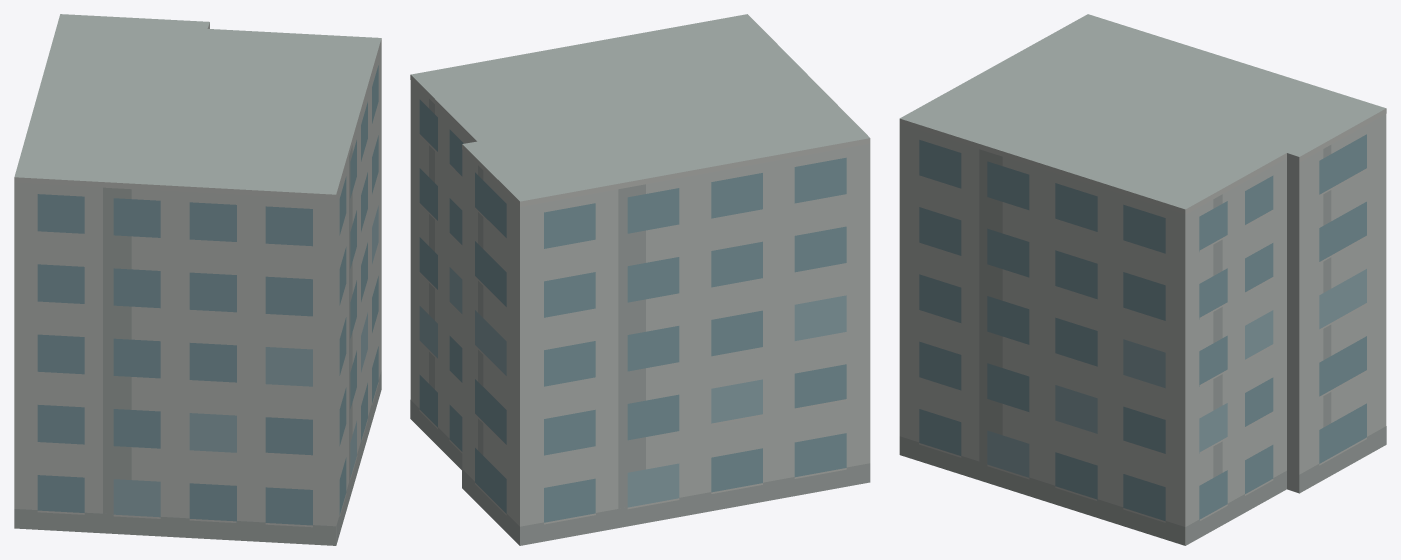
Rendered from survey-upis-32761592.glb.
3 renders of one model, left to right at view 1: azimuth 30°, elevation 25°; view 2: azimuth 150°, elevation 25°; view 3: azimuth 270°, elevation 25°, orthographic. The views are drawn at different scales.
Visible parts, largest first — view 1: survey-upis-32761592.tmp; view 2: survey-upis-32761592.tmp; view 3: survey-upis-32761592.tmp.
Part boxes in pixels (x1,y1,x2,y2): survey-upis-32761592.tmp: (14, 14, 381, 545); survey-upis-32761592.tmp: (410, 14, 870, 545); survey-upis-32761592.tmp: (899, 14, 1386, 545).
Size of the model in its own units: 19.01 by 15.25 by 20.01.
